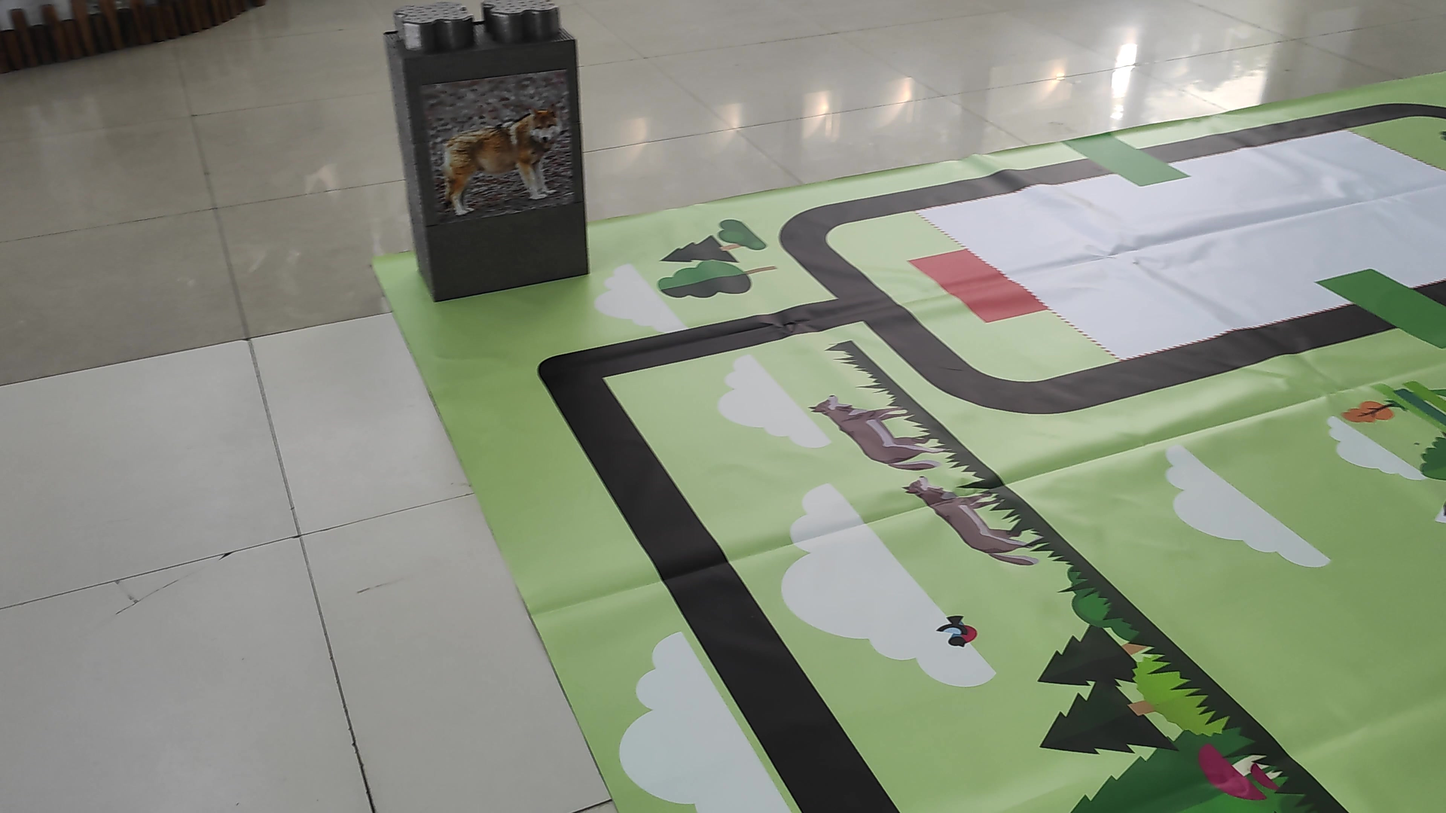wolf: (425, 92, 568, 221)
